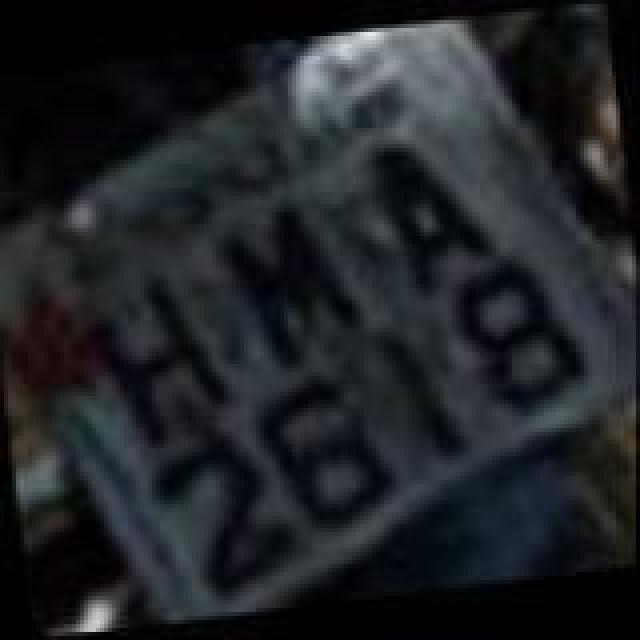1: (356, 308, 476, 472)
2: (144, 432, 304, 612)
6: (258, 360, 398, 536)
8: (448, 248, 588, 424)
A: (362, 128, 510, 300)
H: (82, 268, 234, 456)
M: (212, 188, 368, 372)
